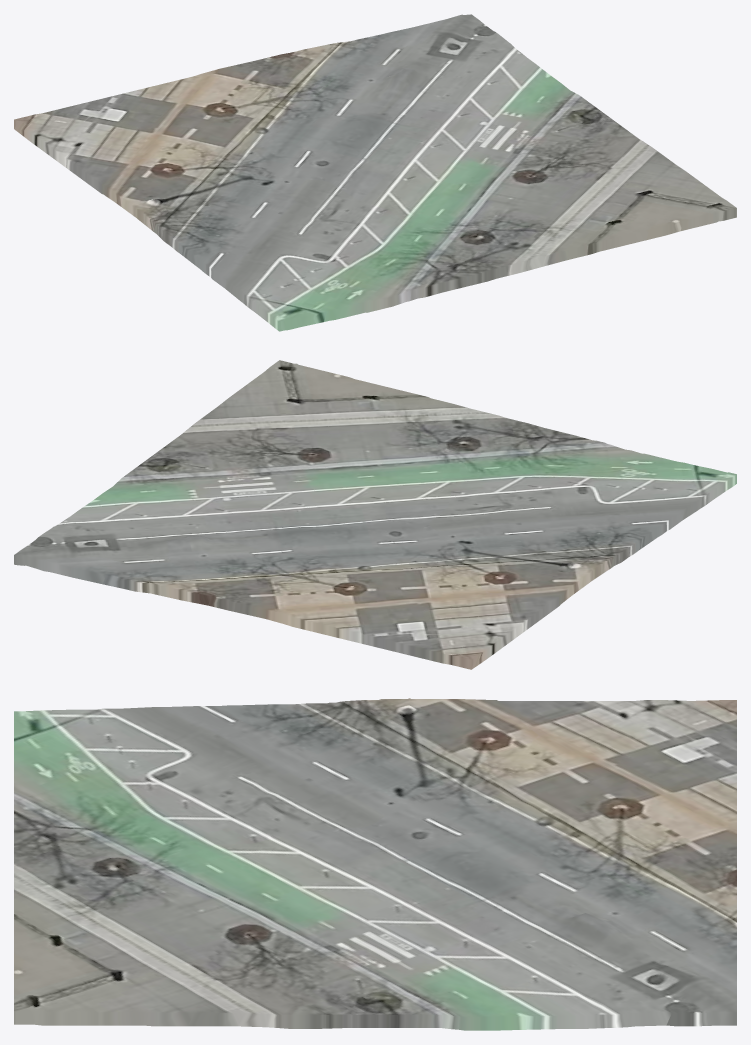
The model's file is z20-167791-405223-h0-yup-uvflip-v3-world.glb.
The picture shows the model from 3 angles, top to bottom: view 1: azimuth 30°, elevation 25°; view 2: azimuth 150°, elevation 25°; view 3: azimuth 270°, elevation 25°; orthographic projection. The views are drawn at different scales.
Bounding box in the file's own units: 30.16 × 1.48 × 30.32.
Materials: 1 (1 with a texture image).
